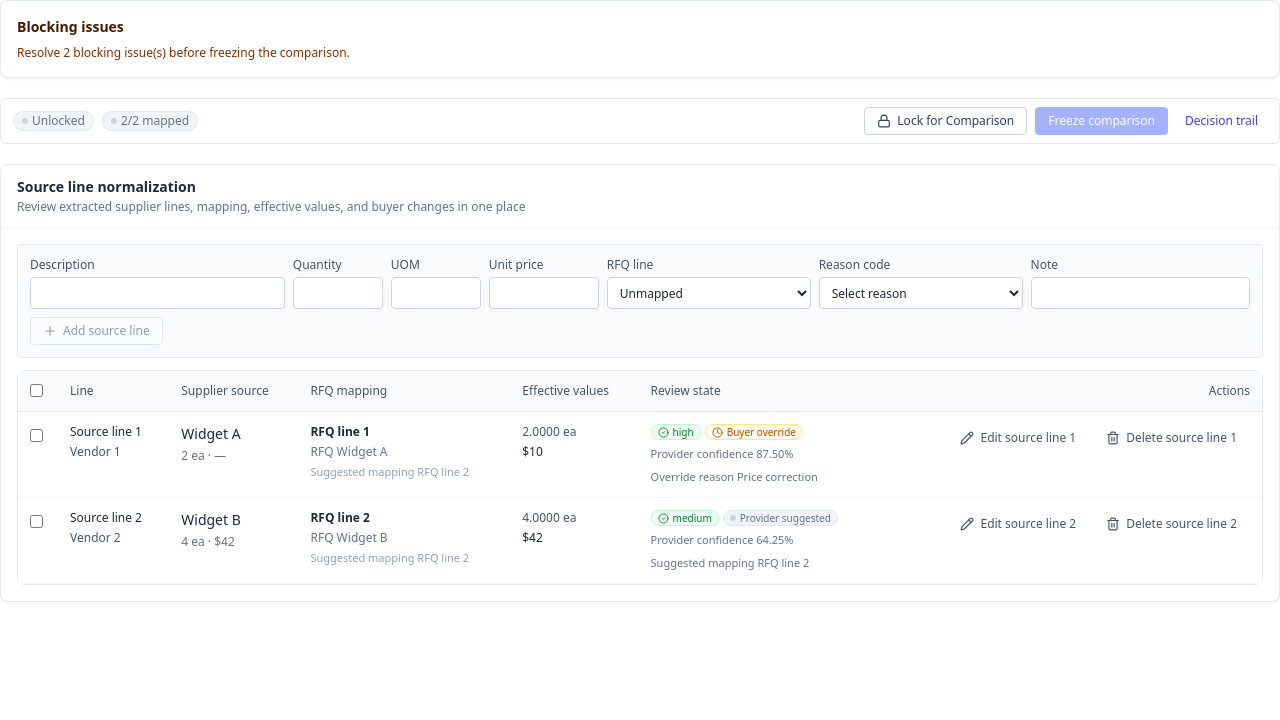
Test: NormalizeQuotePage › requires a structured reason code before manual source-line submit and note for other
This screenshot has width=1280, height=720.
Step 1. Type "Manual freight line" into the field labelled "Description" → (157, 293), box [30,277,285,309]
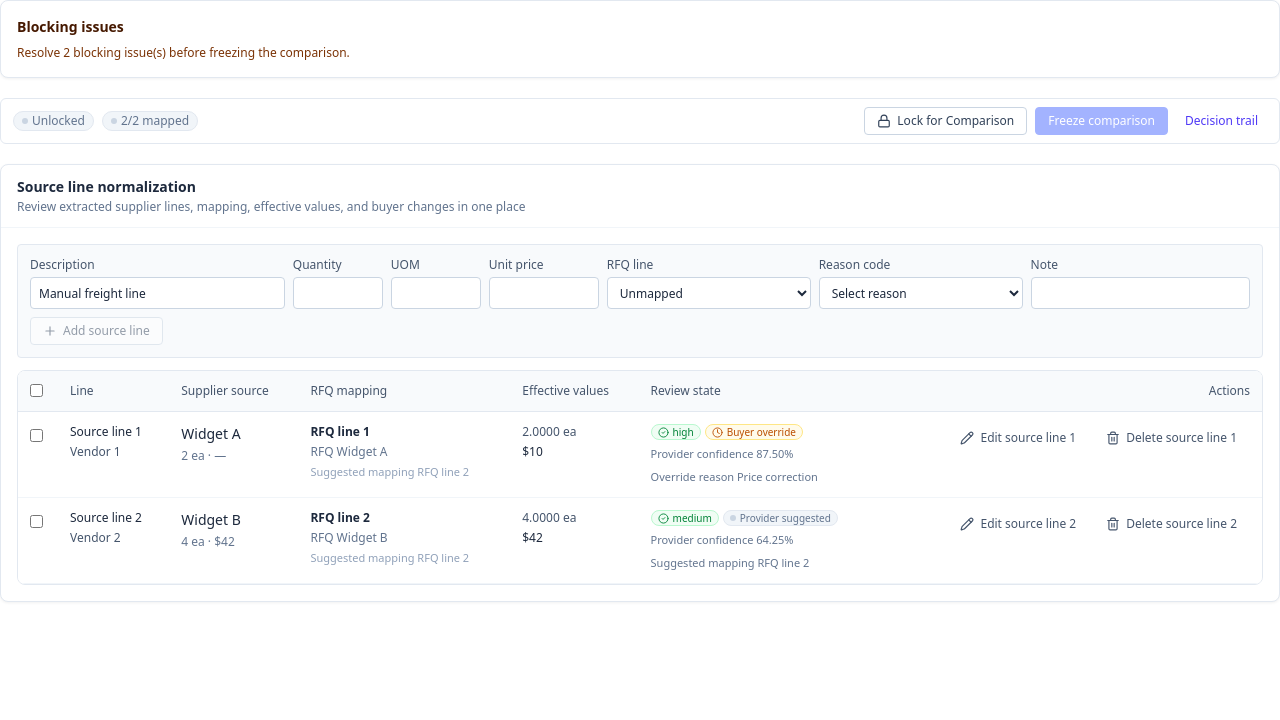
Expected: the button "Add source line" is disabled, [30,317,163,345]
Step 2. Select "Other" in the dropdown labelled "Reason code" → (921, 293), box [819,277,1023,309]
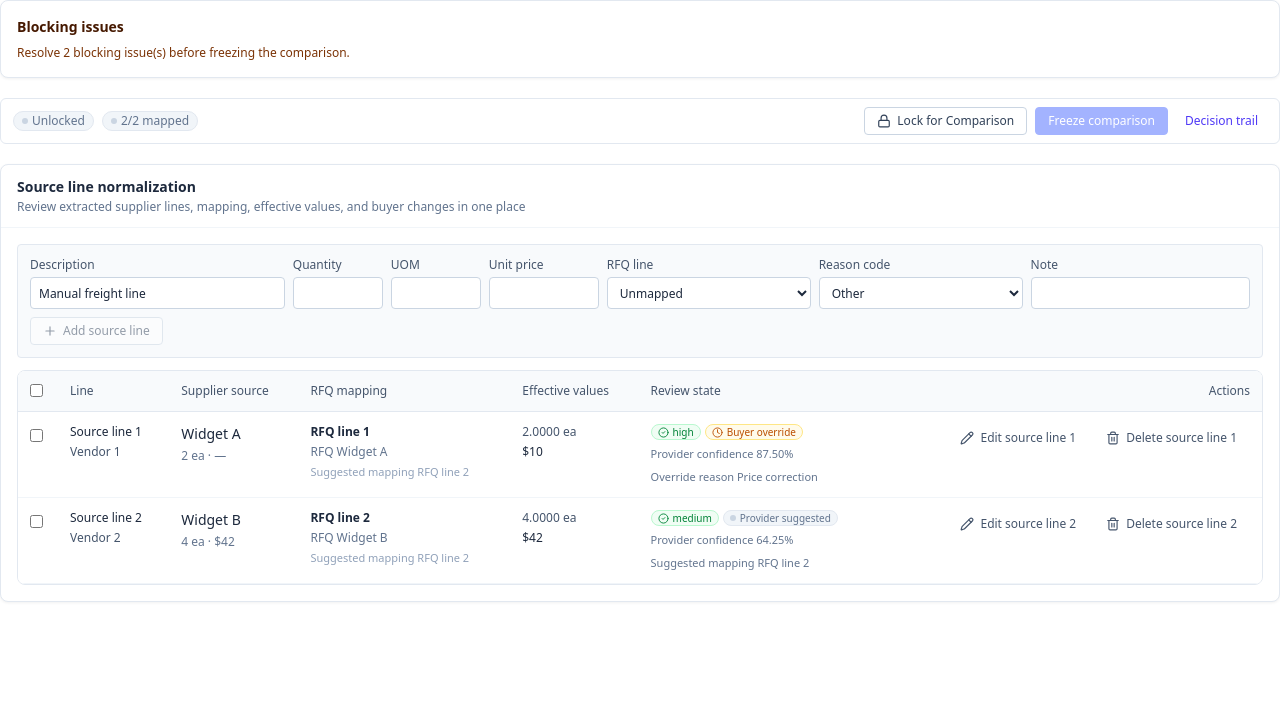
Expected: the button "Add source line" is disabled, [30,317,163,345]
Step 3. Type "Needed because supplier file was unreadable" into the field labelled "Note" → (1140, 293), box [1030,277,1250,309]
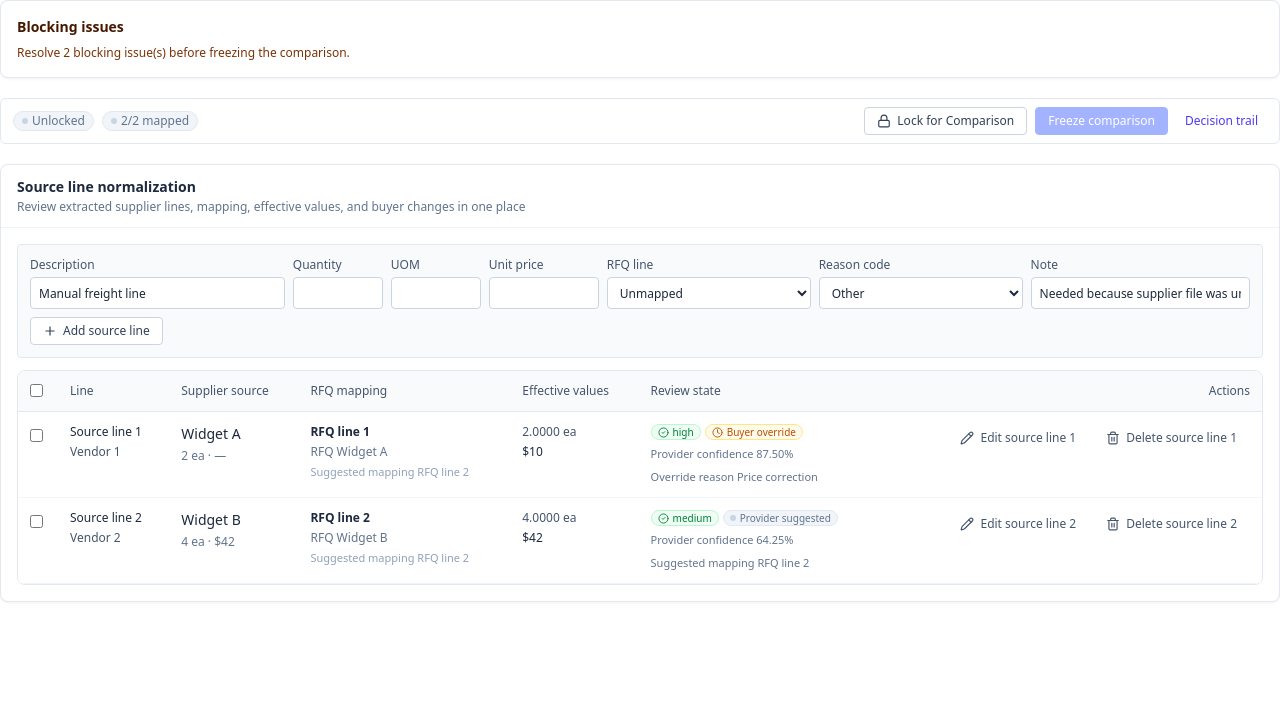
Expected: the button "Add source line" is enabled, [30,317,163,345]
